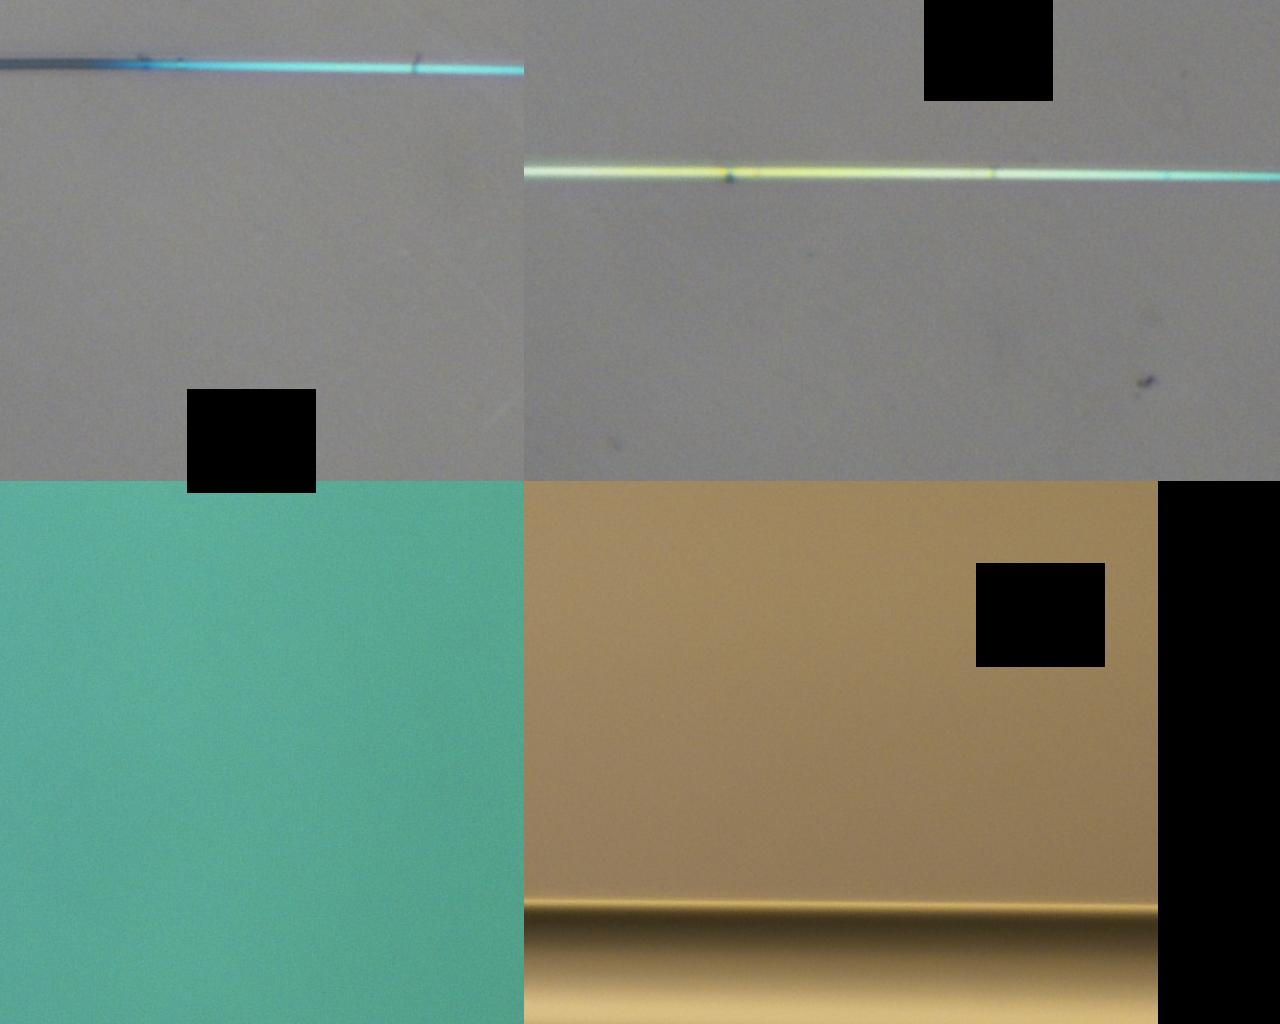fiber: (523, 903, 1158, 1024), (523, 163, 1280, 183), (0, 60, 523, 76)
